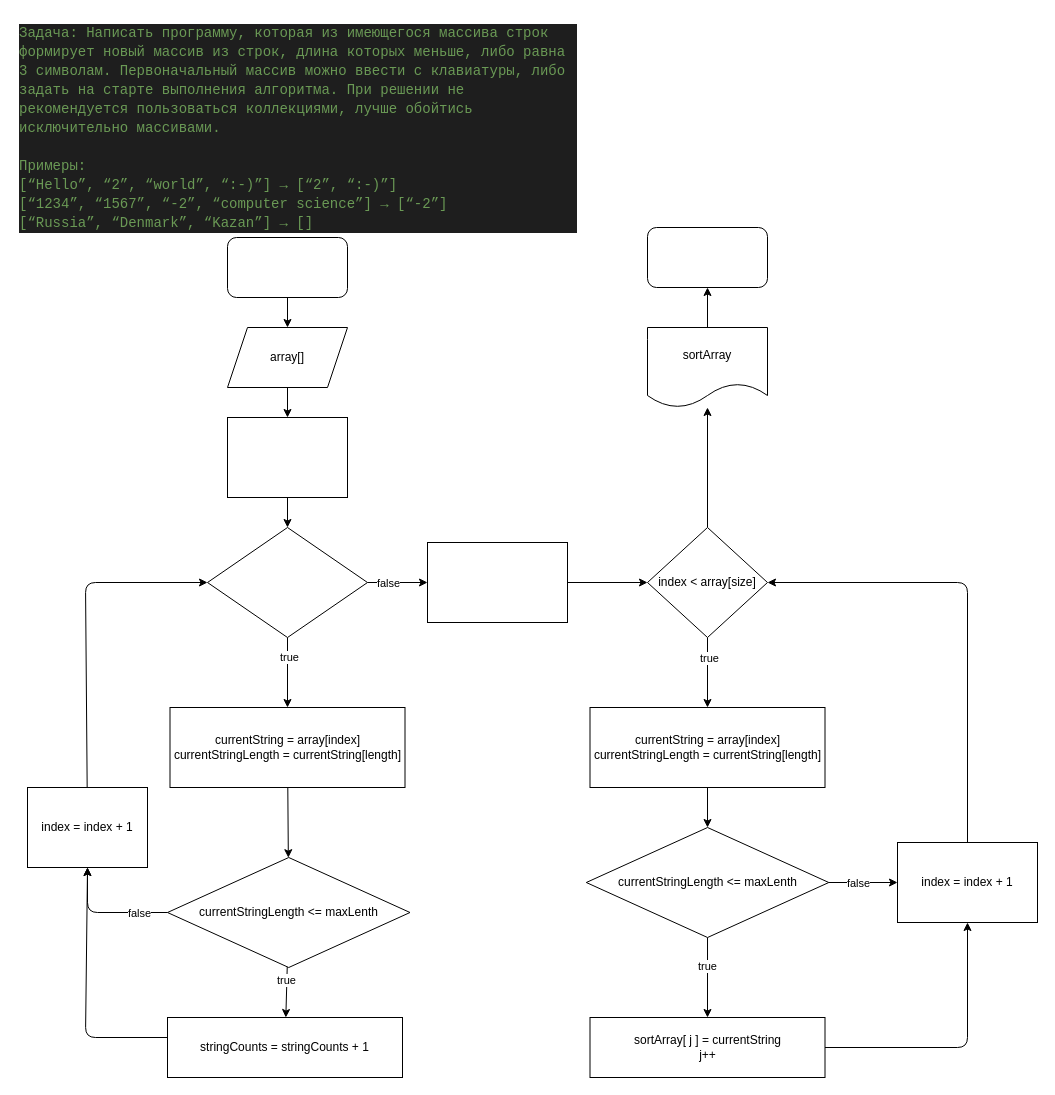
Image size: 1055x1095. Some labels were removed from this diagram. Each missing label, with the centre of its shape:
"end" goes at [707,257].
"index < size" goes at [287,582].
"sortArray[ stringCounts ] j = 0 index = 0;" goes at [497,582].
"start" goes at [287,267].
"stringCounts = 0 index = 0 maxLength = 3 size = array[]" goes at [287,457].
